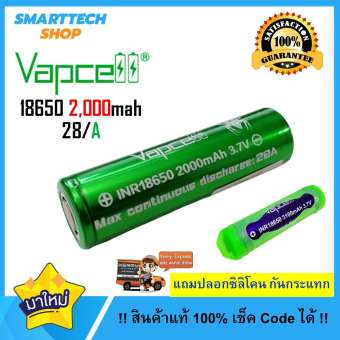Battery: (52, 102, 297, 253)
